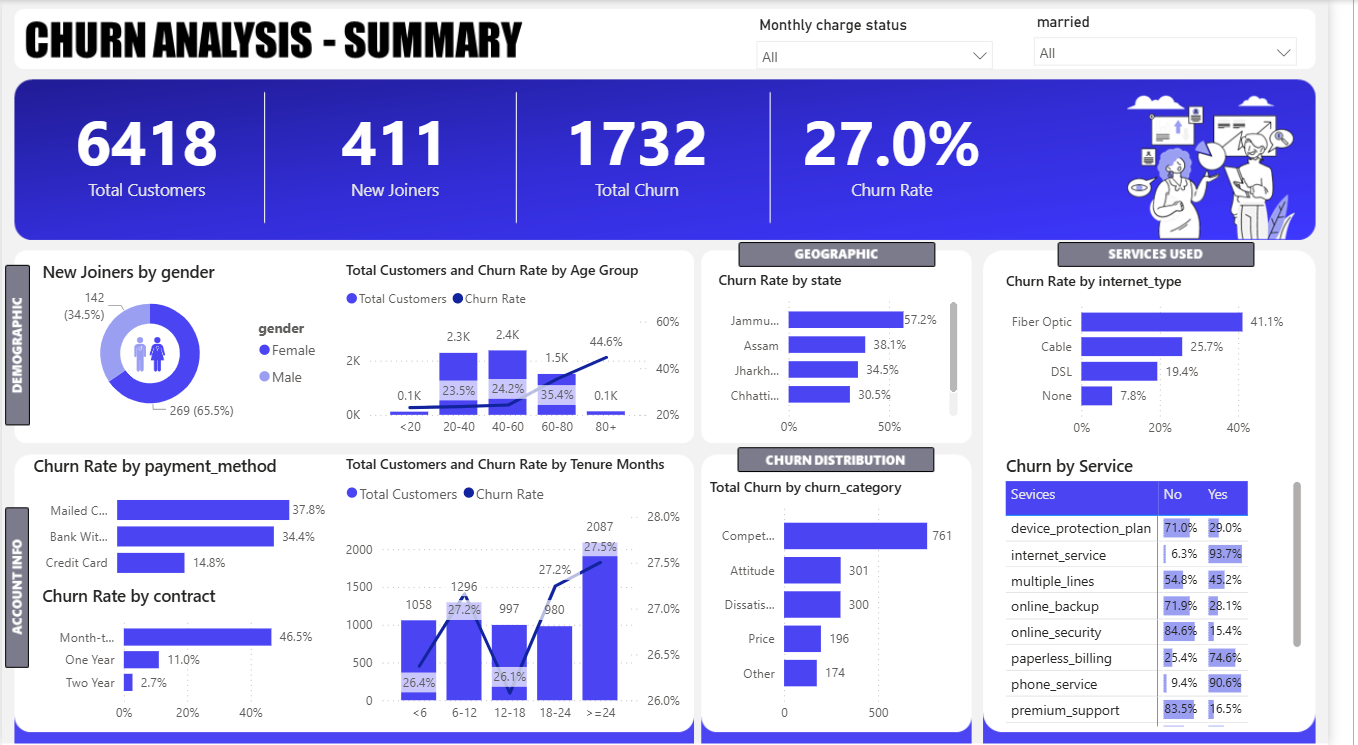

The page's visual inventory and layout, read from the dashboard file:
{"tool":"powerbi","page":{"name":"Page 1","canvas":[1280,720],"ordinal":0},"visuals":[{"type":"card","fields":{"Values":["Measures (2).Total Customers"]},"box":[0,34.3,209.9,150.9],"z":0},{"type":"card","fields":{"Values":["Measures (2).New Joiners"]},"box":[209.9,35.7,233.3,149.6],"z":1000},{"type":"card","fields":{"Values":["Measures (2).Total Churn"]},"box":[439.1,34.3,209.9,150.9],"z":2000},{"type":"card","fields":{"Values":["Measures (2).Churn Rate"]},"box":[649.1,46.7,209.9,150.9],"z":3000},{"type":"donutChart","fields":{"Category":["public new_customer_churn.gender"],"Y":["Measures (2).New Joiners"]},"box":[50.8,208.6,209.9,150.9],"z":4000},{"type":"lineStackedColumnComboChart","fields":{"Category":["mapping-AgeGrp.Age Group"],"Y":["Measures (2).Total Customers"],"Y2":["Measures (2).Churn Rate"]},"box":[317,197.6,299.1,179.8],"z":5000},{"type":"clusteredBarChart","fields":{"Category":["public new_customer_churn.payment_method"],"Y":["Measures (2).Churn Rate"]},"box":[50.8,377.4,248.4,172.9],"z":5001},{"type":"clusteredBarChart","fields":{"Category":["public new_customer_churn.state"],"Y":["Measures (2).Churn Rate"]},"box":[649.1,197.6,258,204.5],"z":5002},{"type":"clusteredBarChart","fields":{"Category":["public new_customer_churn.contract"],"Y":["Measures (2).Churn Rate"]},"box":[50.8,569.5,209.9,150.9],"z":5003},{"type":"lineStackedColumnComboChart","fields":{"Category":["mapping-Tenuregrp.Tenure Months"],"Y":["Measures (2).Total Customers"],"Y2":["Measures (2).Churn Rate"]},"box":[326.6,388.3,322.5,241.5],"z":5004},{"type":"clusteredBarChart","fields":{"Category":["public new_customer_churn.churn_category"],"Y":["Measures (2).Total Churn"]},"box":[686.1,450.1,200.3,226.4],"z":5005},{"type":"clusteredBarChart","fields":{"Category":["public new_customer_churn.internet_type"],"Y":["Measures (2).Churn Rate"]},"box":[994.9,212.7,253.9,175.6],"z":5006}]}

Visuals, with their boxes in screenshot pixels (x1, y1, x2, y2), scaled from the page's 1280x720 canvas onto the 1358x745 screenshot:
card - Measures (2).Total Customers: (0, 35, 223, 192)
card - Measures (2).New Joiners: (223, 37, 470, 192)
card - Measures (2).Total Churn: (466, 35, 689, 192)
card - Measures (2).Churn Rate: (689, 48, 911, 204)
donutChart - public new_customer_churn.gender x Measures (2).New Joiners: (54, 216, 277, 372)
lineStackedColumnComboChart - mapping-AgeGrp.Age Group x Measures (2).Total Customers: (336, 204, 654, 391)
clusteredBarChart - public new_customer_churn.payment_method x Measures (2).Churn Rate: (54, 391, 317, 569)
clusteredBarChart - public new_customer_churn.state x Measures (2).Churn Rate: (689, 204, 962, 416)
clusteredBarChart - public new_customer_churn.contract x Measures (2).Churn Rate: (54, 589, 277, 744)
lineStackedColumnComboChart - mapping-Tenuregrp.Tenure Months x Measures (2).Total Customers: (347, 402, 689, 652)
clusteredBarChart - public new_customer_churn.churn_category x Measures (2).Total Churn: (728, 466, 940, 700)
clusteredBarChart - public new_customer_churn.internet_type x Measures (2).Churn Rate: (1056, 220, 1325, 402)
